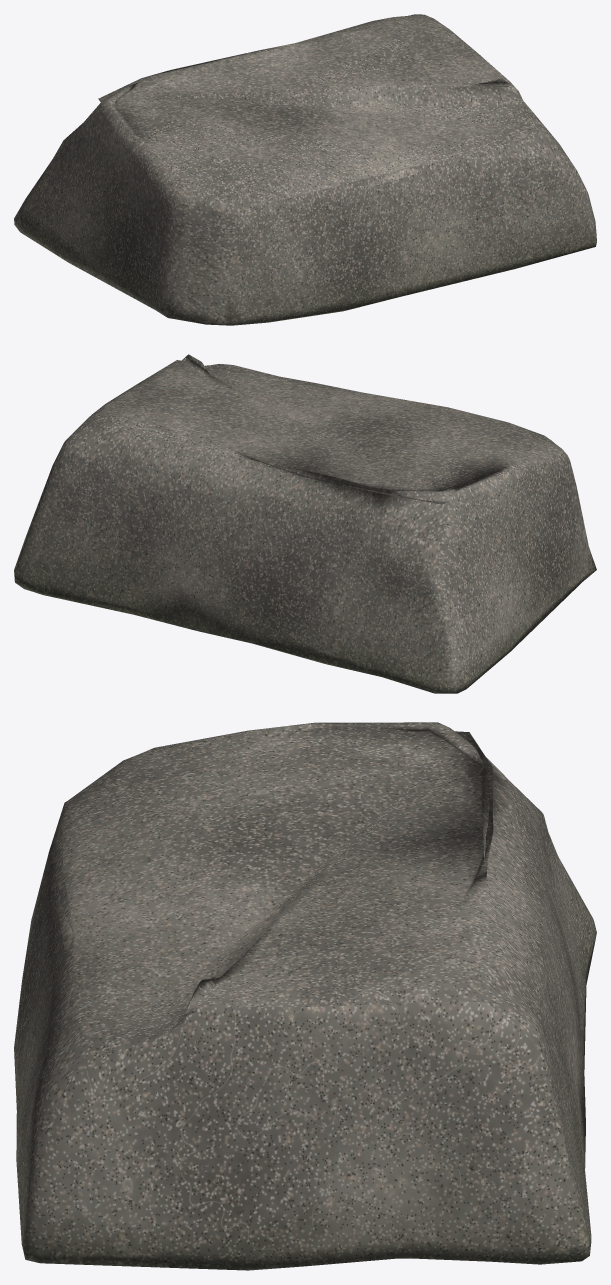
The model's file is Pebble_Square_2.gltf.
3 views of the same model, one above another, from view 1: azimuth 30°, elevation 25°; view 2: azimuth 150°, elevation 25°; view 3: azimuth 270°, elevation 25° (orthographic). The views are drawn at different scales.
Visible parts, largest first — view 1: Pebble_Square_2; view 2: Pebble_Square_2; view 3: Pebble_Square_2.
Boxes of the visible parts, box(x1,y1,x2,y2) form: Pebble_Square_2: box(14, 14, 596, 325); Pebble_Square_2: box(14, 354, 596, 693); Pebble_Square_2: box(14, 722, 596, 1270).
Bounding box in the file's own units: 0.3897 × 0.1389 × 0.2765.
1 material, 1 textured.
